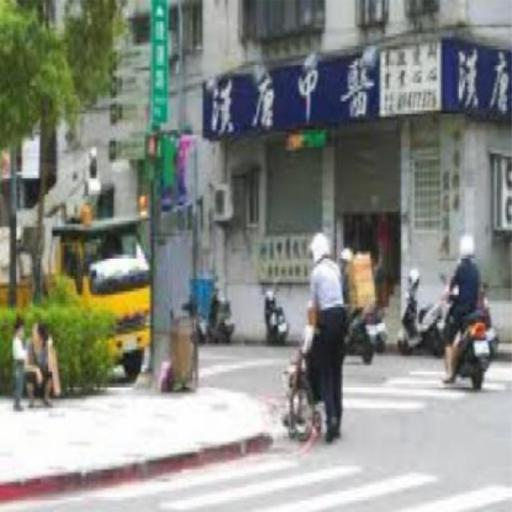bag: (284, 351, 322, 442), (182, 298, 203, 390)
chair: (0, 455, 512, 512), (343, 364, 512, 411)
